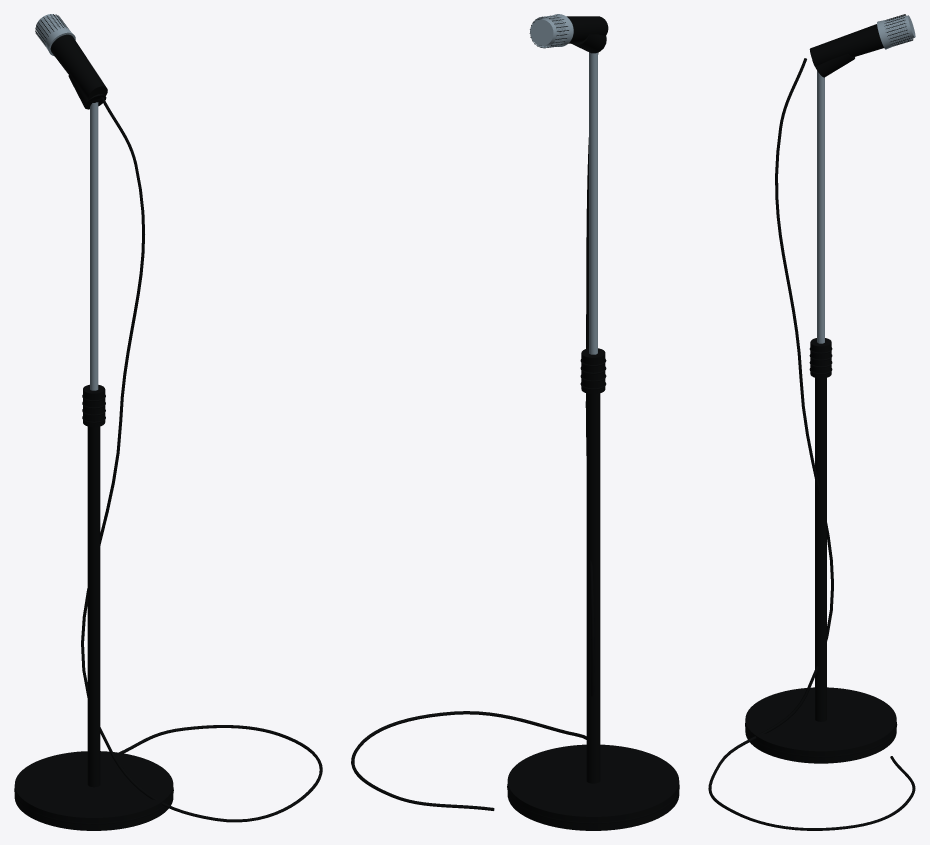
Rendered from MicStand.obj.
3 renders of one model, left to right at view 1: azimuth 30°, elevation 25°; view 2: azimuth 150°, elevation 25°; view 3: azimuth 270°, elevation 25°, orthographic. The views are drawn at different scales.
Parts seen in each view (by area): view 1: Weighted_base, Lower_tube, Microphone_cable, Telescoping_tube, Microphone_body, Height_clutch, Grille; view 2: Weighted_base, Lower_tube, Microphone_cable, Telescoping_tube, Grille, Height_clutch, Microphone_body; view 3: Weighted_base, Lower_tube, Microphone_cable, Telescoping_tube, Microphone_body, Grille, Height_clutch, Mic_clip.
Part boxes in pixels (<box>): Weighted_base: <box>14,751,173,830</box>; Lower_tube: <box>87,387,100,787</box>; Microphone_cable: <box>81,97,322,822</box>; Telescoping_tube: <box>90,102,98,390</box>; Microphone_body: <box>50,34,107,102</box>; Height_clutch: <box>83,384,105,427</box>; Grille: <box>35,14,75,56</box>; Weighted_base: <box>507,744,679,830</box>; Lower_tube: <box>586,351,600,783</box>; Microphone_cable: <box>351,52,598,810</box>; Telescoping_tube: <box>589,52,597,354</box>; Grille: <box>530,14,573,46</box>; Height_clutch: <box>581,348,605,394</box>; Microphone_body: <box>566,16,608,43</box>; Weighted_base: <box>745,687,896,763</box>; Lower_tube: <box>815,378,826,721</box>; Microphone_cable: <box>708,58,915,830</box>; Telescoping_tube: <box>817,70,824,343</box>; Microphone_body: <box>809,24,883,66</box>; Grille: <box>877,15,915,49</box>; Height_clutch: <box>810,338,831,378</box>; Mic_clip: <box>812,53,854,77</box>.
Bounding box in the file's own units: 0.6131 × 1.58 × 0.4104.
